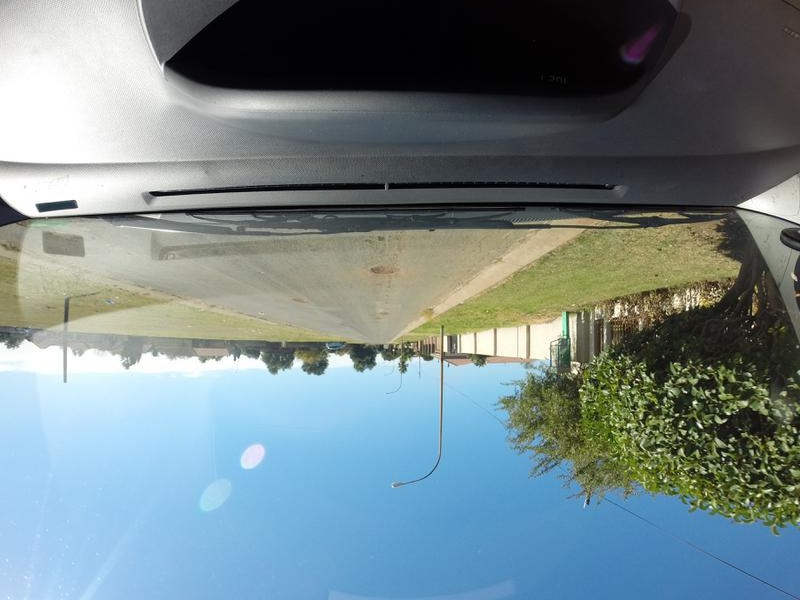pothole: (367, 264, 398, 275), (291, 291, 309, 304), (377, 307, 387, 317), (370, 235, 389, 240)
